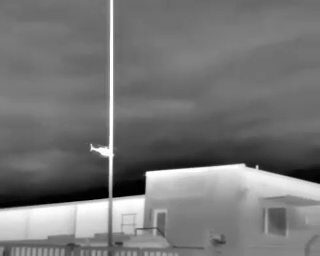HELICOPTER: (101, 141, 132, 162)
